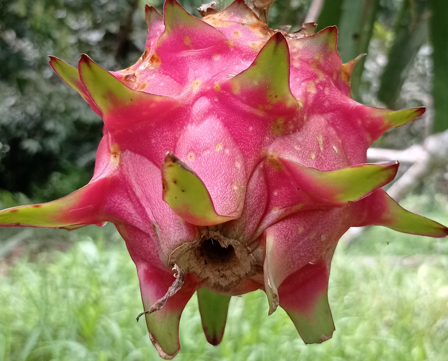Matang: (97, 23, 385, 324)
